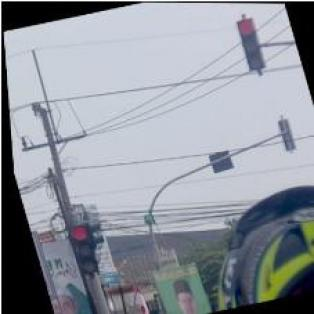Semaforo Rojo: (232, 15, 267, 72), (65, 222, 97, 276)
